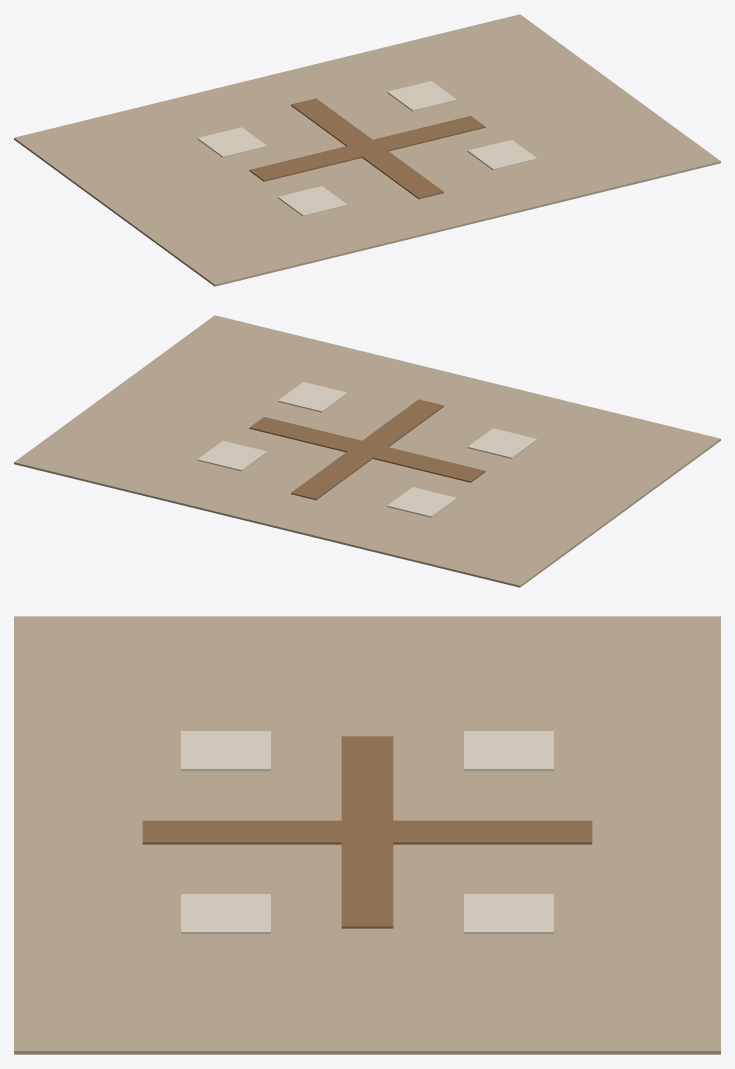
3 renders of one model, top to bottom at view 1: azimuth 30°, elevation 25°; view 2: azimuth 150°, elevation 25°; view 3: azimuth 270°, elevation 25°, orthographic. The views are drawn at different scales.
Parts seen in each view (by area): view 1: rug-base, medallion-cross-z, medallion-cross-x, medallion--0.3--0.22, medallion-0.3-0.22, medallion--0.3-0.22, medallion-0.3--0.22; view 2: rug-base, medallion-cross-z, medallion-cross-x, medallion--0.3-0.22, medallion-0.3--0.22, medallion--0.3--0.22, medallion-0.3-0.22; view 3: rug-base, medallion-cross-z, medallion-cross-x, medallion--0.3--0.22, medallion--0.3-0.22, medallion-0.3--0.22, medallion-0.3-0.22.
Boxes of the visible parts, x1,y1,x2,y2 form: rug-base: (14,14,720,286); medallion-cross-z: (291,98,443,199); medallion-cross-x: (249,116,485,181); medallion--0.3--0.22: (197,127,267,157); medallion-0.3-0.22: (467,139,537,170); medallion--0.3-0.22: (278,186,347,216); medallion-0.3--0.22: (387,81,456,111); rug-base: (14,315,720,587); medallion-cross-z: (291,399,443,500); medallion-cross-x: (249,417,485,482); medallion--0.3-0.22: (467,428,537,458); medallion-0.3--0.22: (197,440,267,471); medallion--0.3--0.22: (387,487,456,517); medallion-0.3-0.22: (278,382,347,412); rug-base: (14,616,720,1054); medallion-cross-z: (142,820,592,844); medallion-cross-x: (341,736,393,928); medallion--0.3--0.22: (464,731,553,771); medallion--0.3-0.22: (181,731,270,771); medallion-0.3--0.22: (464,894,553,934); medallion-0.3-0.22: (181,894,270,934).
Size of the model in its own units: 1.6 by 0.01 by 1.1.
